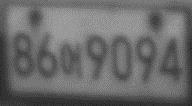0: (110, 36, 132, 81)
4: (158, 37, 183, 84)
6: (36, 32, 58, 79)
8: (11, 32, 34, 77)
9: (133, 35, 158, 81), (86, 34, 108, 80)
어: (58, 40, 82, 81)
